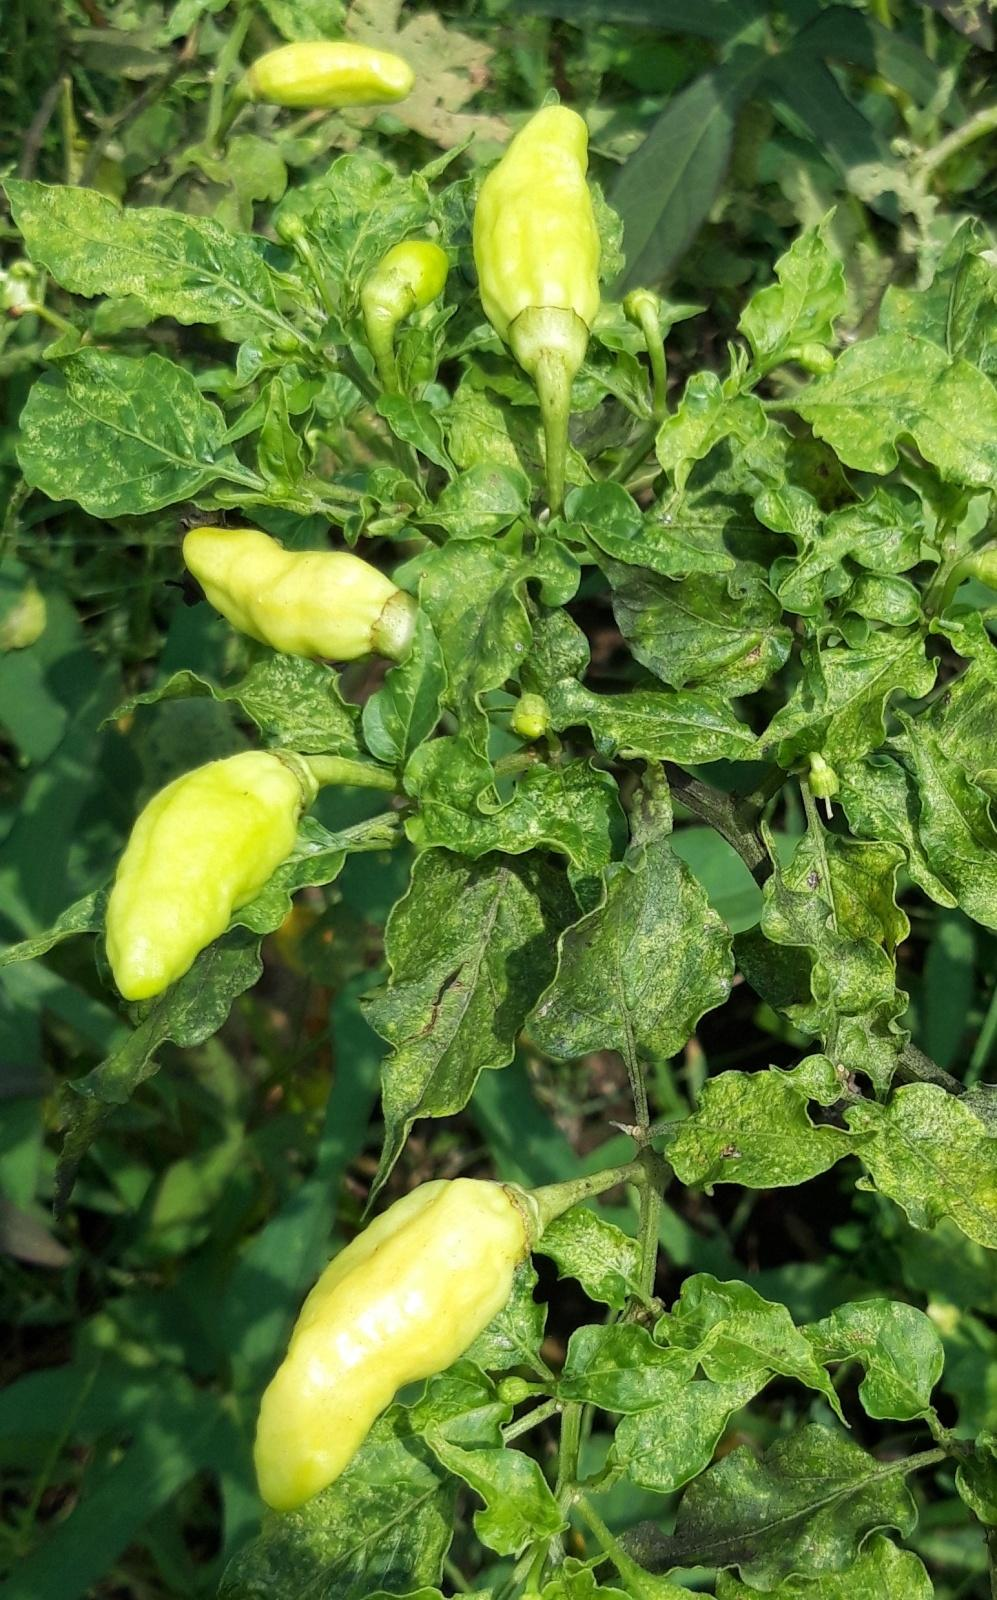cabai_normal: (249, 1174, 538, 1510), (96, 748, 307, 997), (183, 519, 418, 668), (471, 105, 601, 349), (246, 37, 416, 116), (370, 233, 448, 333)
